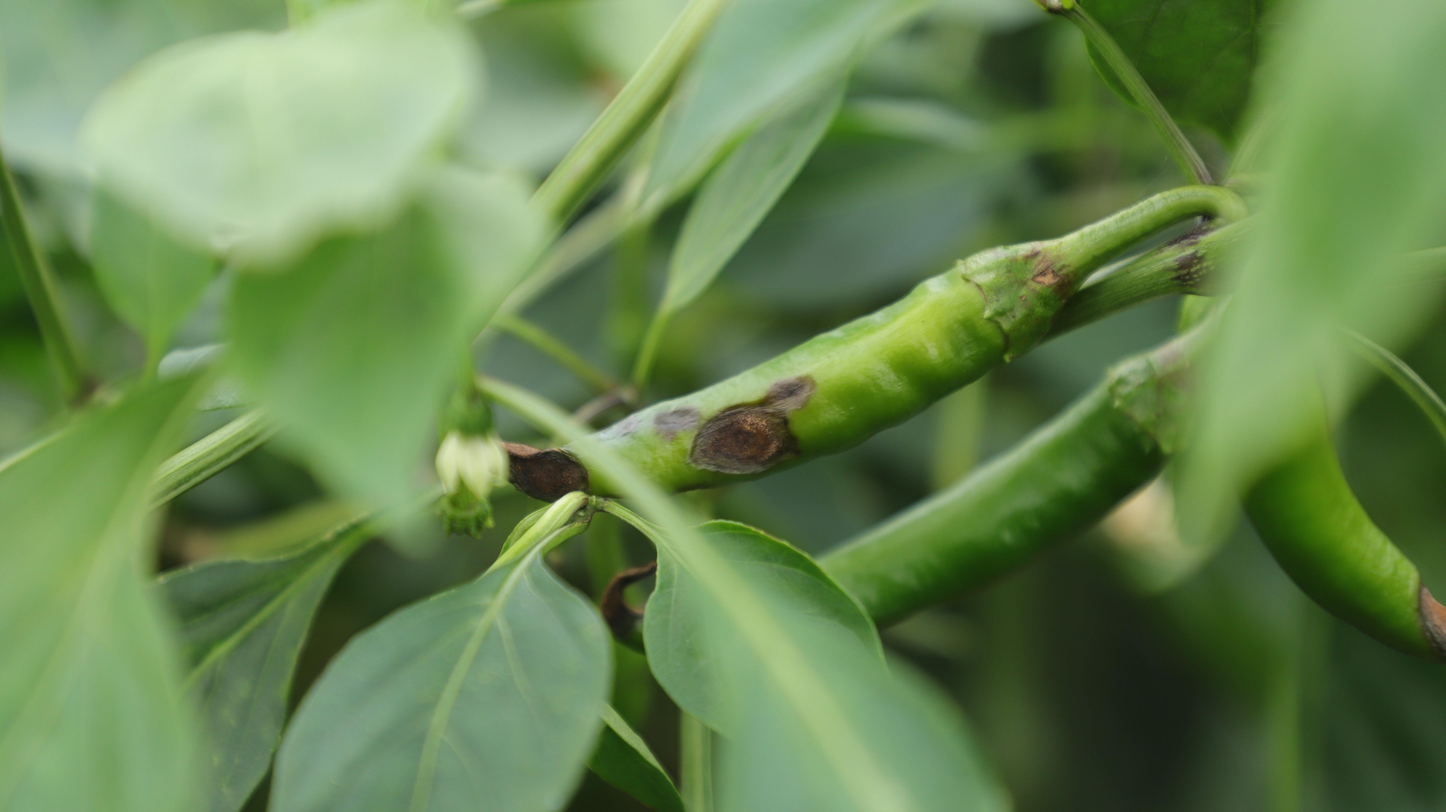Busuk Buah Antraknosa: (494, 179, 1251, 515)
